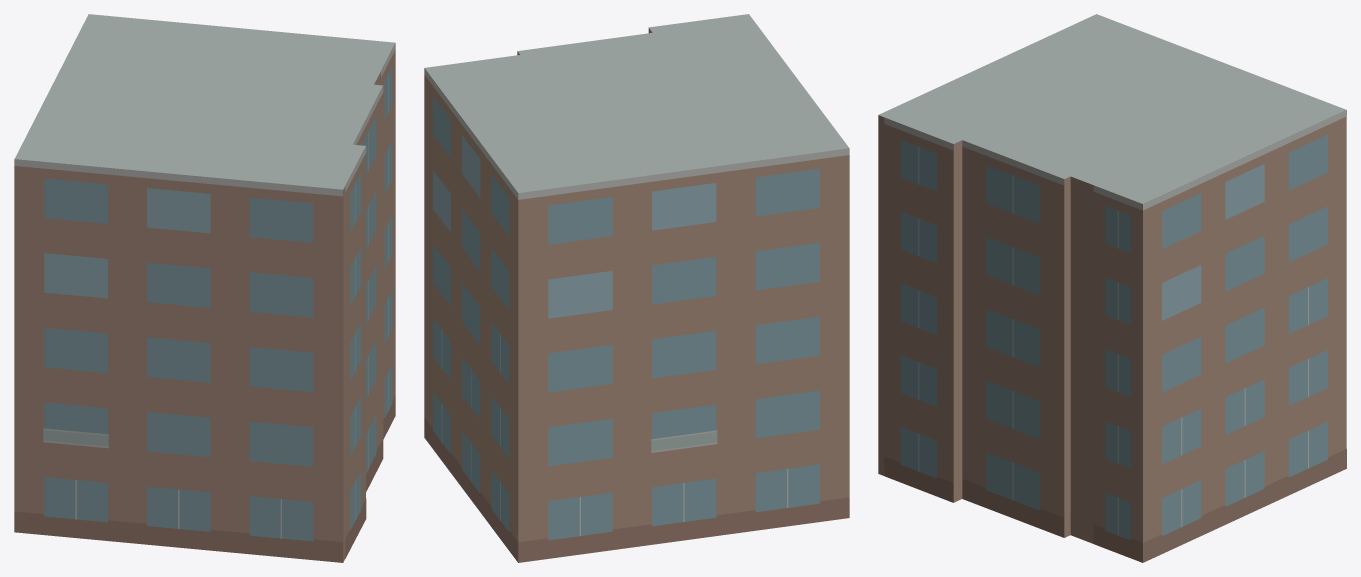
Rendered from survey-upis-32935500.glb.
3 views of the same model, side by side, from view 1: azimuth 30°, elevation 25°; view 2: azimuth 150°, elevation 25°; view 3: azimuth 270°, elevation 25° (orthographic). The views are drawn at different scales.
Visible parts, largest first — view 1: survey-upis-32935500.tmp; view 2: survey-upis-32935500.tmp; view 3: survey-upis-32935500.tmp.
Boxes of the visible parts, x1=… form: survey-upis-32935500.tmp: x1=14, y1=14, x2=395, y2=562; survey-upis-32935500.tmp: x1=424, y1=14, x2=849, y2=562; survey-upis-32935500.tmp: x1=878, y1=14, x2=1346, y2=562.
Bounding box in the file's own units: 15.35 × 13.5 × 15.99.
